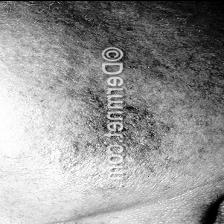Potentially Malignant Skin Tumors: (47, 60, 166, 160)
